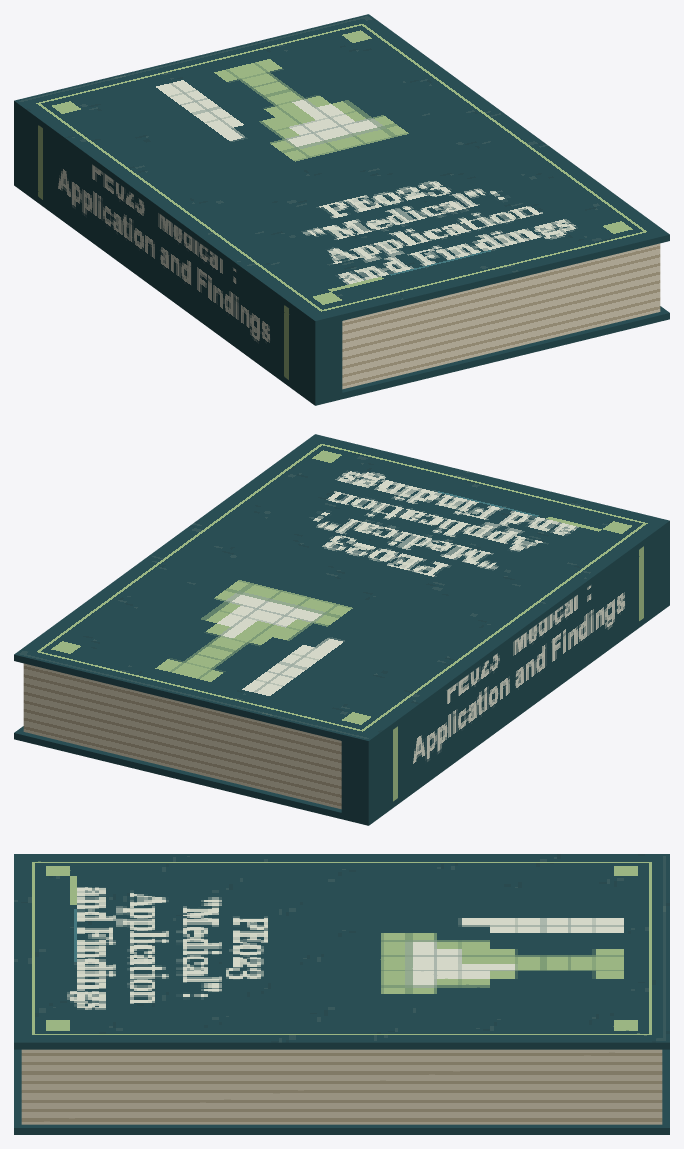
Rendered from recipe_medicalmut.glb.
3 views of the same model, one above another, from view 1: azimuth 30°, elevation 25°; view 2: azimuth 150°, elevation 25°; view 3: azimuth 270°, elevation 25° (orthographic). The views are drawn at different scales.
Parts seen in each view (by area): view 1: block_front cover, block_spine, block_page block, block_back cover; view 2: block_front cover, block_spine, block_page block, block_back cover; view 3: block_front cover, block_page block, block_back cover.
Part boxes in pixels (x1,y1,x2,y2): block_front cover: (14,14,669,327); block_spine: (14,107,342,399); block_page block: (342,243,660,389); block_back cover: (14,179,669,405); block_front cover: (14,434,669,747); block_spine: (341,527,669,819); block_page block: (23,663,341,809); block_back cover: (14,599,669,825); block_front cover: (14,854,669,1049); block_page block: (21,1049,662,1124); block_back cover: (14,1049,669,1134).
Bounding box in the file's own units: 0.1734 × 0.0396 × 0.255.
1 material, 1 textured.
